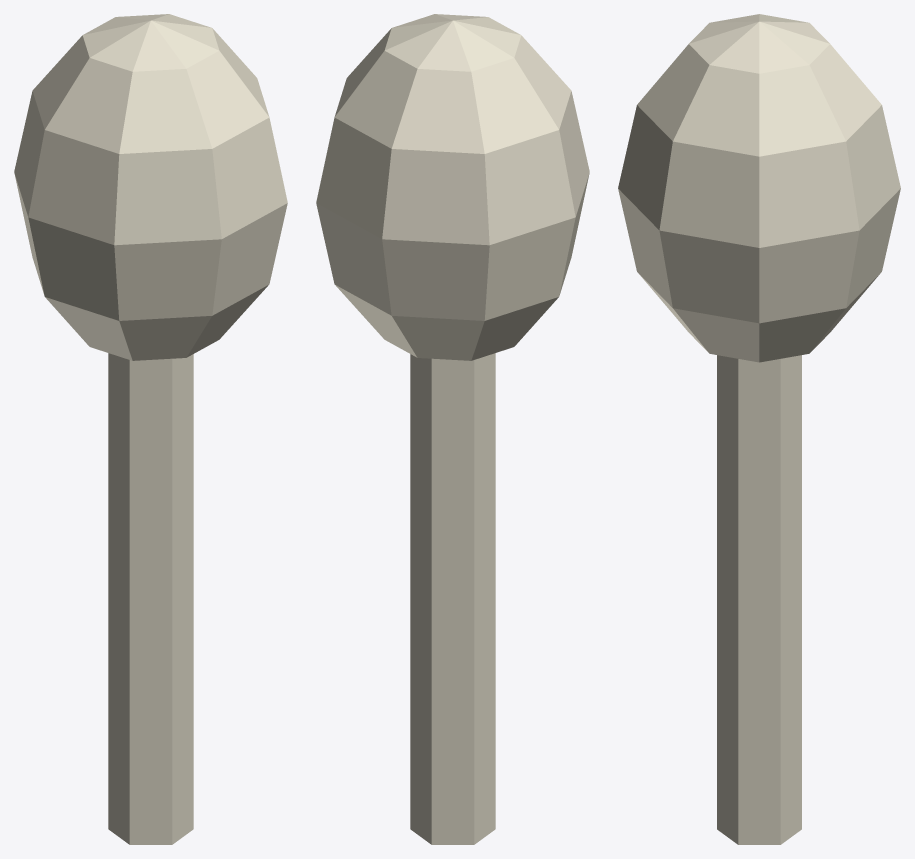
File: bone_club.dae
The picture shows the model from 3 angles, left to right: view 1: azimuth 30°, elevation 25°; view 2: azimuth 150°, elevation 25°; view 3: azimuth 270°, elevation 25°; orthographic projection.
Visible parts, largest first — view 1: Sphere, Cylinder; view 2: Sphere, Cylinder; view 3: Sphere, Cylinder.
Part boxes in pixels (x1,y1,x2,y2): Sphere: (14, 14, 287, 360); Cylinder: (108, 353, 193, 844); Sphere: (316, 14, 589, 360); Cylinder: (410, 353, 495, 844); Sphere: (618, 14, 900, 362); Cylinder: (717, 355, 801, 844).
Size of the model in its own units: 40 by 40 by 126.
